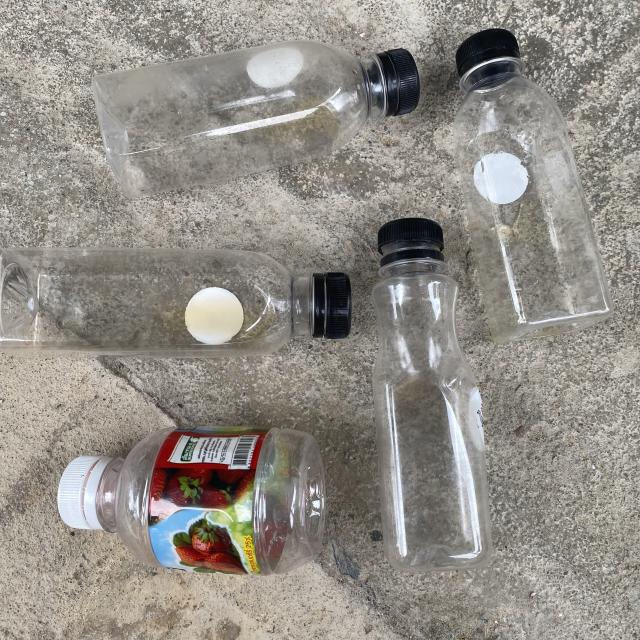plastik: (92, 41, 420, 199), (454, 29, 612, 342), (372, 218, 491, 571), (58, 428, 325, 575), (0, 248, 351, 358)
